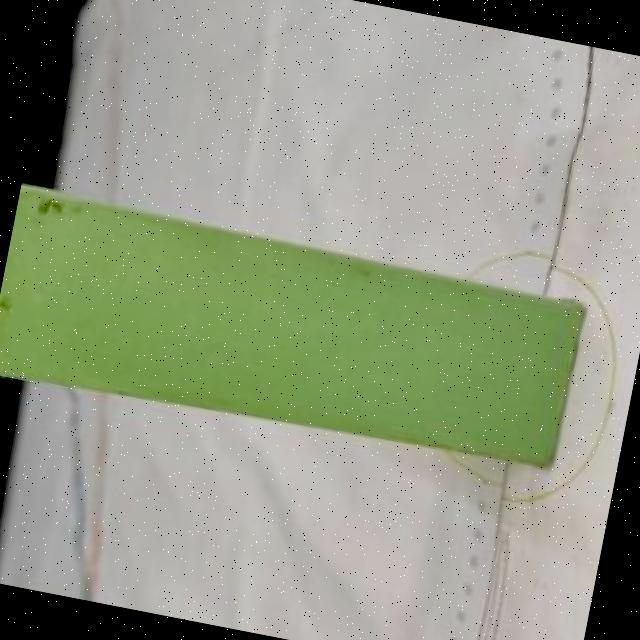greenbox: (0, 174, 593, 479)
